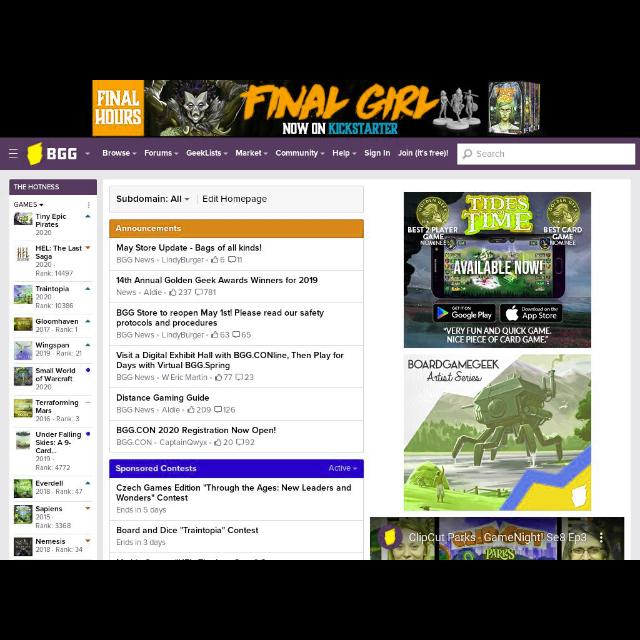icon: (8, 149, 18, 159), (463, 149, 473, 159), (236, 438, 244, 446), (228, 256, 236, 262), (232, 332, 240, 338), (236, 374, 244, 380), (214, 407, 222, 413), (195, 289, 202, 295), (170, 289, 177, 295), (215, 374, 222, 380), (188, 407, 195, 413), (212, 256, 218, 262), (212, 332, 218, 338), (215, 439, 221, 445), (86, 152, 90, 156), (133, 152, 137, 156), (86, 368, 90, 372), (86, 432, 90, 436), (174, 153, 180, 155), (184, 198, 190, 200), (38, 204, 44, 206), (88, 202, 90, 208), (86, 215, 90, 218), (85, 402, 91, 404), (86, 506, 90, 509), (224, 153, 228, 155), (264, 153, 268, 155), (321, 153, 325, 155), (353, 153, 357, 155), (86, 247, 90, 249), (86, 288, 90, 290), (86, 320, 90, 322), (86, 344, 90, 346), (86, 482, 90, 484), (86, 540, 90, 542), (353, 468, 357, 470)
image: (0, 81, 638, 135), (403, 192, 591, 348), (404, 357, 592, 511), (370, 517, 624, 559), (26, 142, 78, 166), (13, 284, 32, 304), (13, 479, 32, 498), (13, 341, 32, 359), (13, 368, 32, 386), (13, 399, 32, 417), (13, 506, 32, 524), (13, 538, 32, 556), (14, 246, 32, 262), (16, 430, 29, 450), (14, 318, 32, 332), (14, 213, 32, 225)
input: (457, 144, 635, 164)
spinner: (116, 195, 190, 202), (276, 150, 324, 158), (186, 150, 228, 156), (328, 464, 358, 472), (102, 151, 138, 157), (145, 150, 179, 156), (236, 150, 268, 156), (333, 150, 357, 158), (13, 202, 44, 208)
text: (116, 485, 352, 515), (116, 352, 344, 381), (116, 310, 324, 338), (116, 276, 318, 296), (117, 428, 276, 447), (116, 244, 262, 264), (116, 527, 260, 547), (116, 394, 236, 414), (36, 432, 80, 472), (36, 246, 82, 276), (36, 400, 80, 422), (36, 286, 74, 310), (36, 368, 76, 390), (116, 464, 196, 474), (36, 506, 70, 528), (36, 480, 82, 496), (36, 342, 82, 358), (36, 214, 66, 236), (36, 539, 82, 553), (36, 318, 78, 332), (203, 196, 267, 204), (116, 195, 182, 202), (116, 225, 182, 232), (398, 150, 448, 158), (276, 149, 318, 157), (15, 184, 60, 190), (476, 150, 504, 158), (365, 150, 391, 158), (186, 150, 220, 156), (329, 464, 351, 472), (102, 150, 130, 156), (144, 150, 172, 156), (235, 150, 262, 156), (332, 150, 350, 158), (15, 202, 38, 206)
toolbar: (1, 138, 640, 170)
